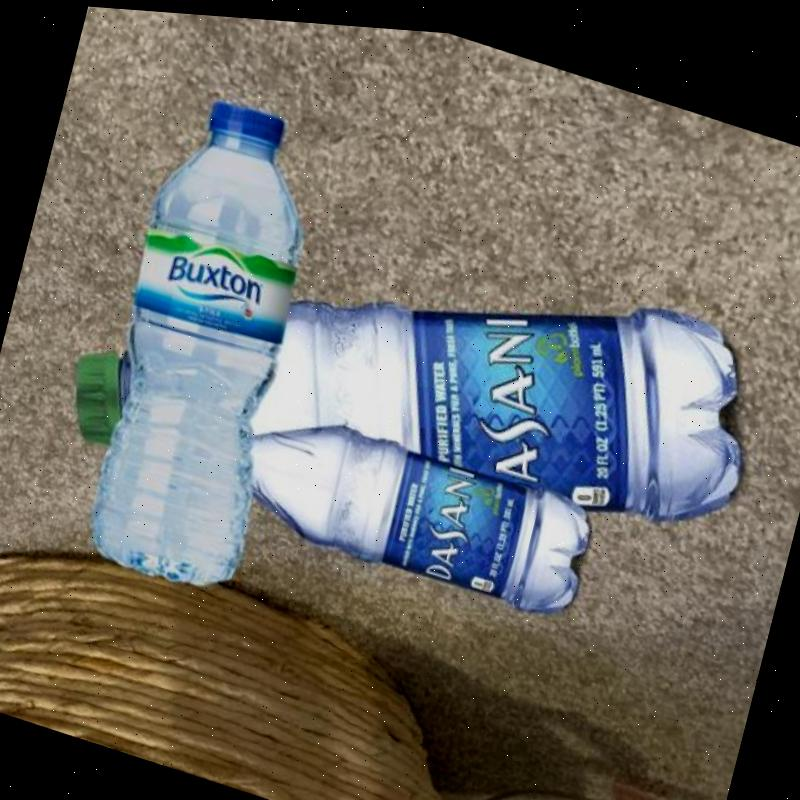botella: (54, 129, 772, 633), (63, 76, 346, 601), (232, 392, 604, 619)
